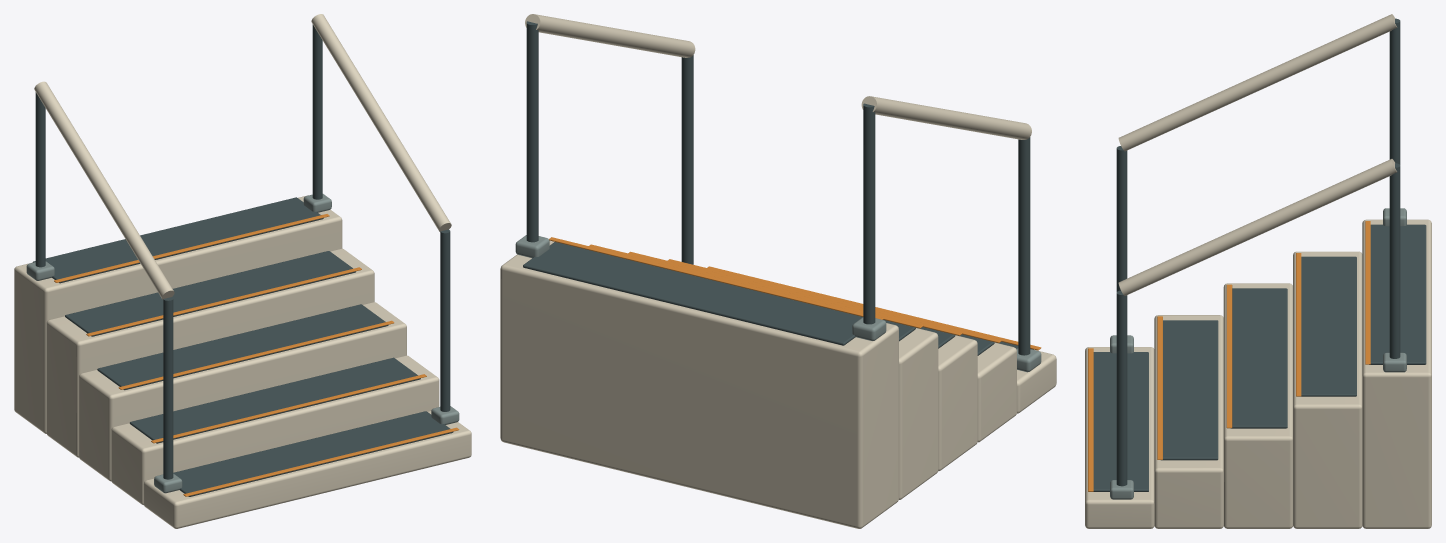
Rendered from terrace-stair-081.glb.
3 renders of one model, left to right at view 1: azimuth 30°, elevation 25°; view 2: azimuth 150°, elevation 25°; view 3: azimuth 270°, elevation 25°, orthographic. The views are drawn at different scales.
Visible parts, largest first — view 1: terrace-stair-081 / 01 • warm porcelain paint, terrace-stair-081 / 06 • dark anodized frame, terrace-stair-081 / 03 • ochre enamel, terrace-stair-081 / 05 • brushed titanium; view 2: terrace-stair-081 / 01 • warm porcelain paint, terrace-stair-081 / 06 • dark anodized frame, terrace-stair-081 / 03 • ochre enamel, terrace-stair-081 / 05 • brushed titanium; view 3: terrace-stair-081 / 01 • warm porcelain paint, terrace-stair-081 / 06 • dark anodized frame, terrace-stair-081 / 03 • ochre enamel, terrace-stair-081 / 05 • brushed titanium.
Part boxes in pixels (x1,y1,x2,y2): terrace-stair-081 / 01 • warm porcelain paint: [14, 14, 471, 528]; terrace-stair-081 / 06 • dark anodized frame: [32, 24, 453, 496]; terrace-stair-081 / 03 • ochre enamel: [54, 214, 459, 496]; terrace-stair-081 / 05 • brushed titanium: [26, 194, 459, 493]; terrace-stair-081 / 01 • warm porcelain paint: [500, 14, 1056, 528]; terrace-stair-081 / 06 • dark anodized frame: [523, 21, 1033, 355]; terrace-stair-081 / 03 • ochre enamel: [549, 237, 1041, 350]; terrace-stair-081 / 05 • brushed titanium: [515, 235, 1041, 372]; terrace-stair-081 / 01 • warm porcelain paint: [1085, 14, 1431, 528]; terrace-stair-081 / 06 • dark anodized frame: [1093, 18, 1426, 491]; terrace-stair-081 / 03 • ochre enamel: [1088, 221, 1370, 491]; terrace-stair-081 / 05 • brushed titanium: [1110, 208, 1406, 499].
Bounding box in the file's own units: 1.7 × 1.86 × 1.6.
